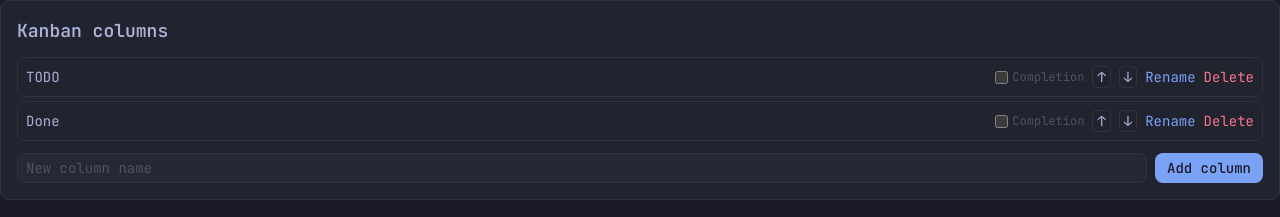
Test case: ColumnsManager › deletes an empty column immediately
Expected: the text "TODO" is shown, x1=26 y1=68 x2=60 y2=86
Click the button "Delete" in the row of "TODO": (1229, 77) x1=1204 y1=67 x2=1254 y2=87
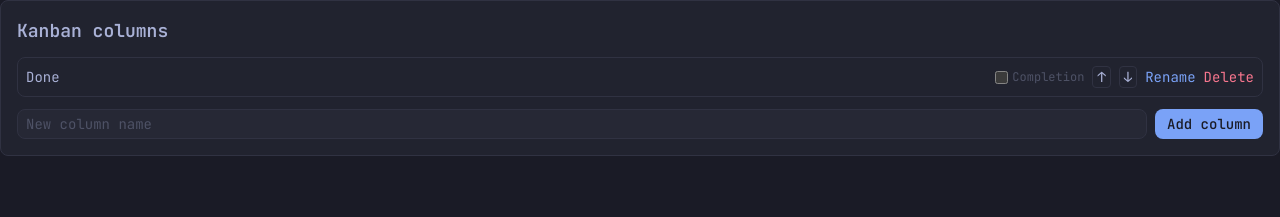
Expected: the text "TODO" is gone
